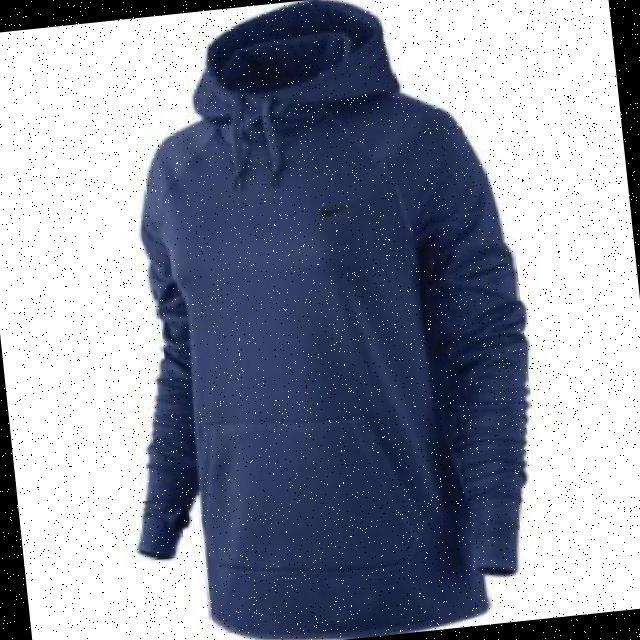Nike: (317, 199, 349, 216)
